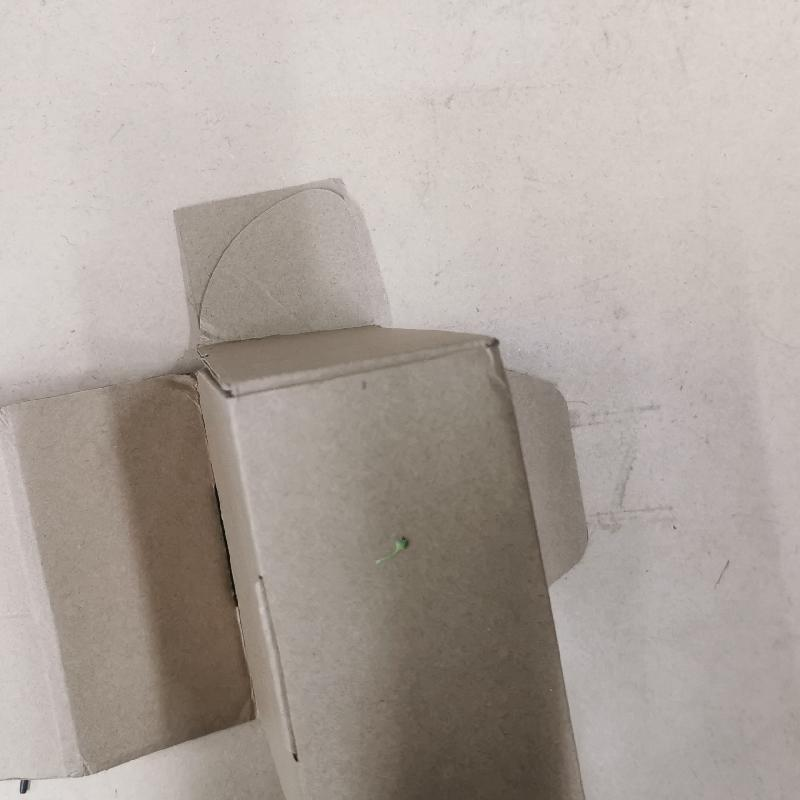boxes: (4, 173, 622, 800)
